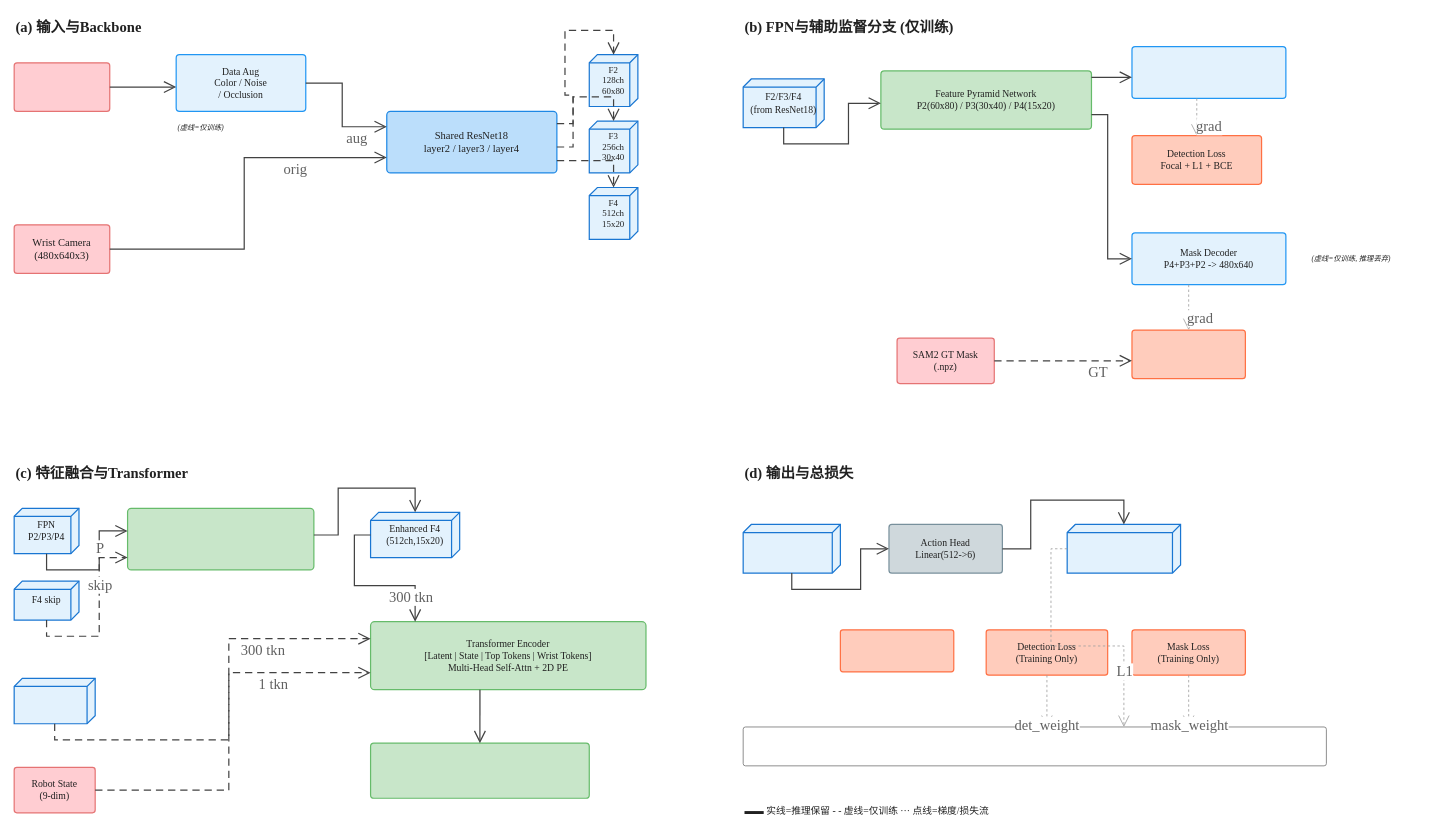
The diagram is 1438 pixels wide and 833 high, and some of its shapes have lost their labels. Each missing label, with the box of its shape:
Action L1 Loss: (839, 629, 954, 672)
Decoder Output (B,chunk,512): (742, 524, 841, 573)
Detection-Feature Fusion Attention Map(15x20) x4 -> Enhanced F4: (127, 507, 314, 570)
FCOS Detection Head CLS / REG / CTR Tower: (1131, 46, 1286, 99)
Mask Loss L1 |pred - GT|: (1131, 329, 1246, 379)
Predicted Actions (chunk_size, 6): (1066, 524, 1181, 573)
Top Camera (480x640x3): (13, 62, 110, 112)
Total Loss = Action_L1 + KL + det_weight x Det_Loss + mask_weight x Mask_Loss: (742, 726, 1326, 766)
Transformer Decoder Learned Queries x Cross-Attention: (370, 742, 590, 798)
Wrist F4 (512ch,15x20): (13, 677, 95, 724)
